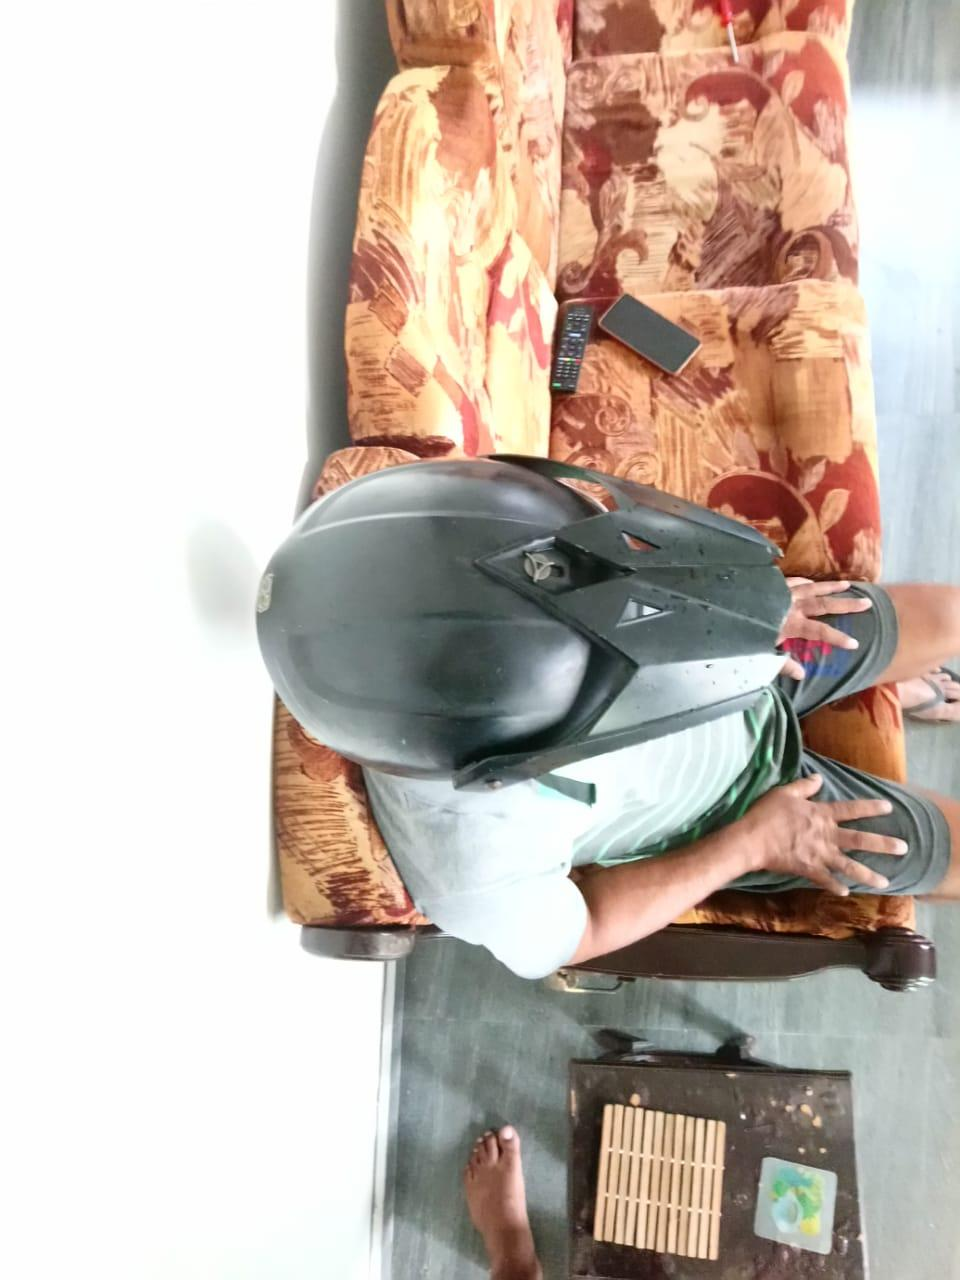helmet: (254, 452, 790, 788)
